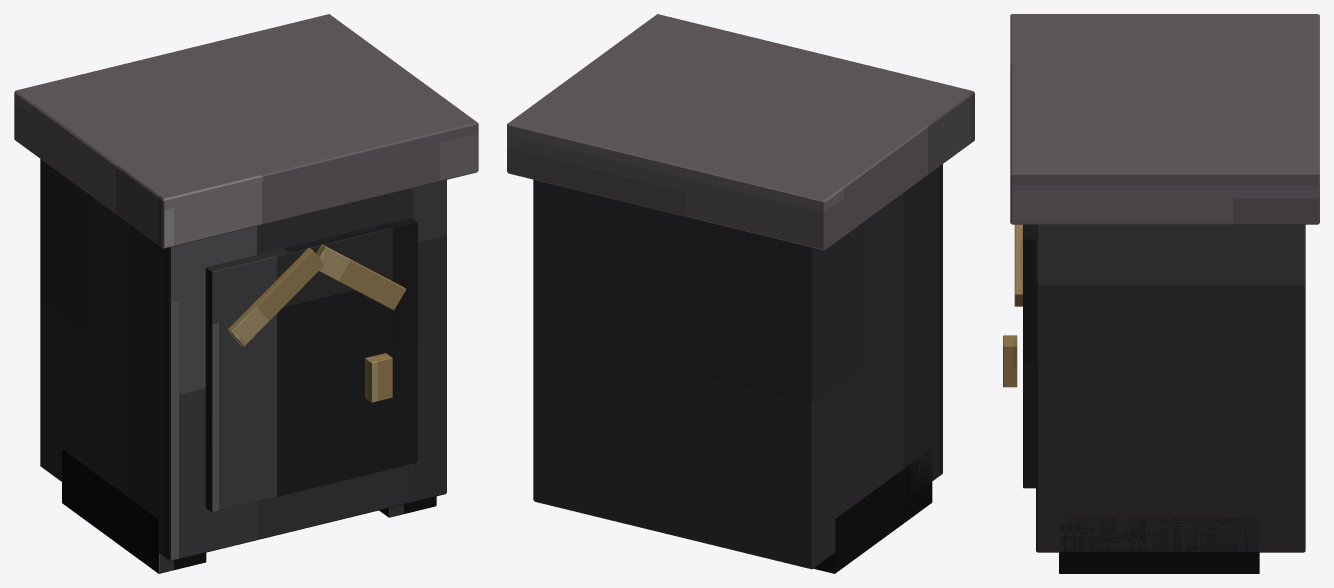
Rendered from gothic_nightstand_ivory.glb.
The picture shows the model from 3 angles, left to right: view 1: azimuth 30°, elevation 25°; view 2: azimuth 150°, elevation 25°; view 3: azimuth 270°, elevation 25°; orthographic projection. The views are drawn at different scales.
Visible parts, largest first — view 1: NightstandBody, NightstandTop, PointedDoor, ClawFoot-0.24, DoorArchLeft, DoorArchRight, DoorPull; view 2: NightstandBody, NightstandTop, ClawFoot-0.24; view 3: NightstandBody, NightstandTop, ClawFoot0.24, PointedDoor, DoorPull, DoorArchRight.
Boxes of the visible parts, x1,y1,x2,y2 form: NightstandBody: [40, 159, 446, 561]; NightstandTop: [14, 14, 478, 248]; PointedDoor: [205, 217, 417, 512]; ClawFoot-0.24: [62, 449, 206, 573]; DoorArchLeft: [228, 247, 324, 346]; DoorArchRight: [316, 244, 406, 310]; DoorPull: [365, 353, 392, 402]; NightstandBody: [533, 164, 942, 569]; NightstandTop: [507, 14, 974, 250]; ClawFoot-0.24: [813, 449, 932, 573]; NightstandBody: [1036, 224, 1305, 552]; NightstandTop: [1010, 14, 1319, 224]; ClawFoot0.24: [1059, 517, 1259, 573]; PointedDoor: [1023, 224, 1035, 488]; DoorPull: [1003, 335, 1017, 387]; DoorArchRight: [1014, 224, 1022, 306].
Size of the model in its own units: 0.66 by 0.79 by 0.5525.
1 material, 1 textured.
